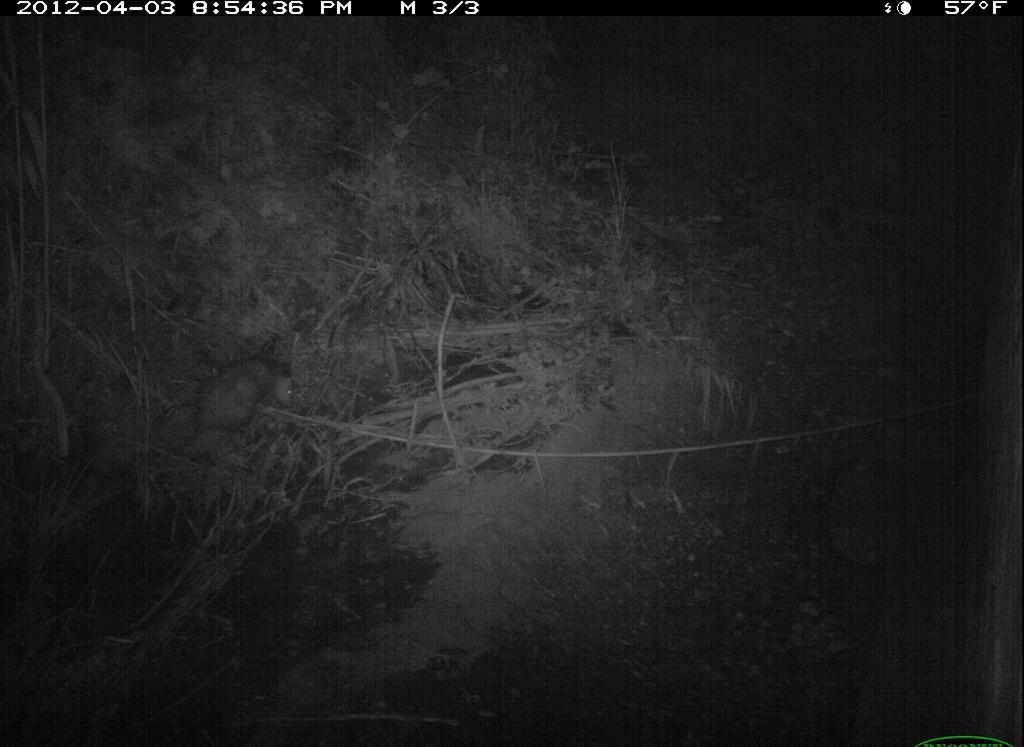opossum: (155, 347, 305, 468)
